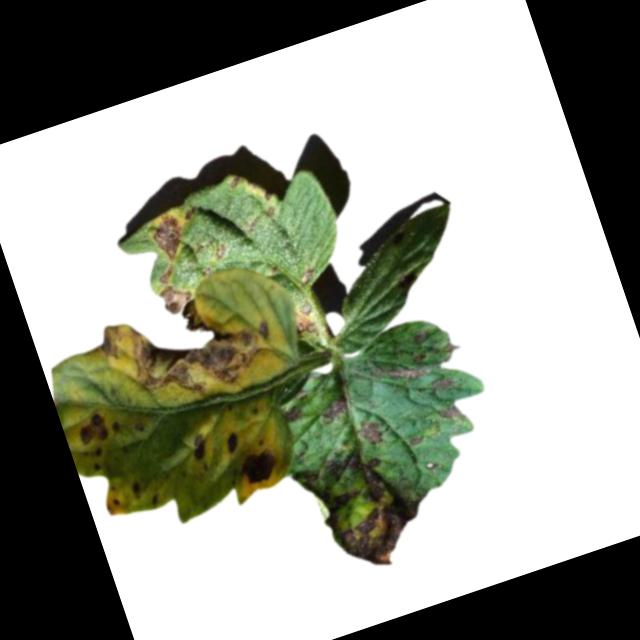Early_blight: (97, 281, 280, 422), (293, 439, 434, 590), (369, 346, 435, 396), (157, 281, 207, 345), (233, 449, 283, 494), (148, 212, 190, 265), (72, 413, 112, 456), (314, 394, 355, 429), (290, 302, 319, 340), (353, 417, 384, 450), (437, 400, 468, 429), (185, 433, 210, 464), (220, 429, 244, 459), (153, 265, 177, 289), (429, 376, 454, 396), (404, 432, 427, 452), (295, 268, 319, 286), (126, 480, 144, 501), (212, 243, 229, 261), (262, 203, 278, 222), (227, 175, 243, 193)
